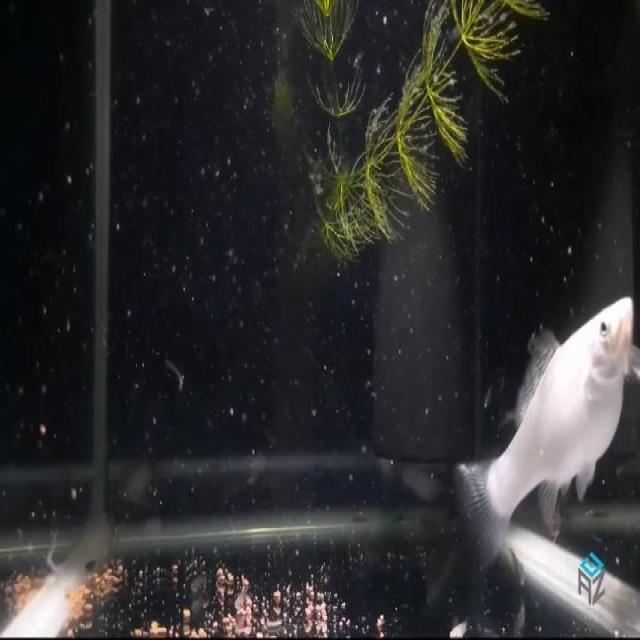PlatyFish: (444, 275, 637, 582)
